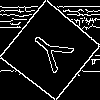Y: (25, 25, 82, 81)
